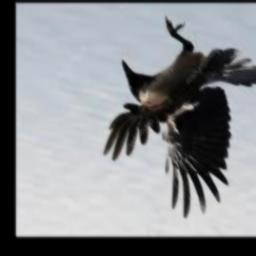Crow: (104, 16, 256, 219)
